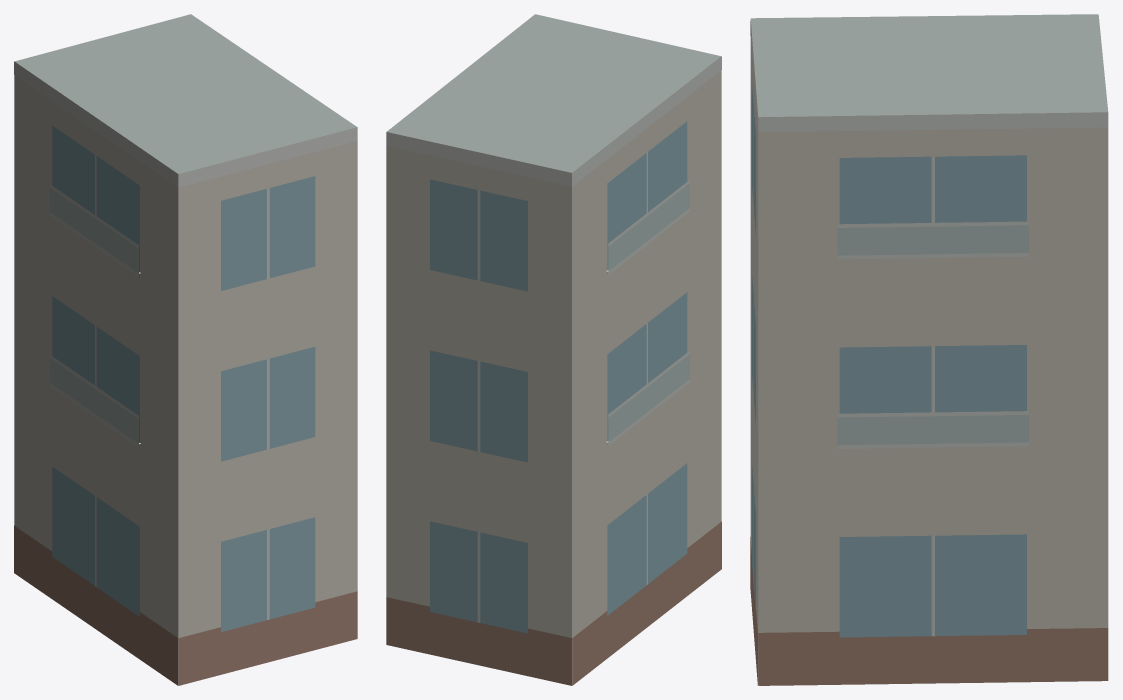
Rendered from survey-upis-32591384.glb.
3 renders of one model, left to right at view 1: azimuth 30°, elevation 25°; view 2: azimuth 150°, elevation 25°; view 3: azimuth 270°, elevation 25°, orthographic. The views are drawn at different scales.
Visible parts, largest first — view 1: survey-upis-32591384.tmp; view 2: survey-upis-32591384.tmp; view 3: survey-upis-32591384.tmp.
Part boxes in pixels (x1,y1,x2,y2): survey-upis-32591384.tmp: (14, 14, 357, 685); survey-upis-32591384.tmp: (386, 14, 721, 685); survey-upis-32591384.tmp: (750, 14, 1108, 685).
Size of the model in its own units: 3.57 by 9.15 by 5.23.
